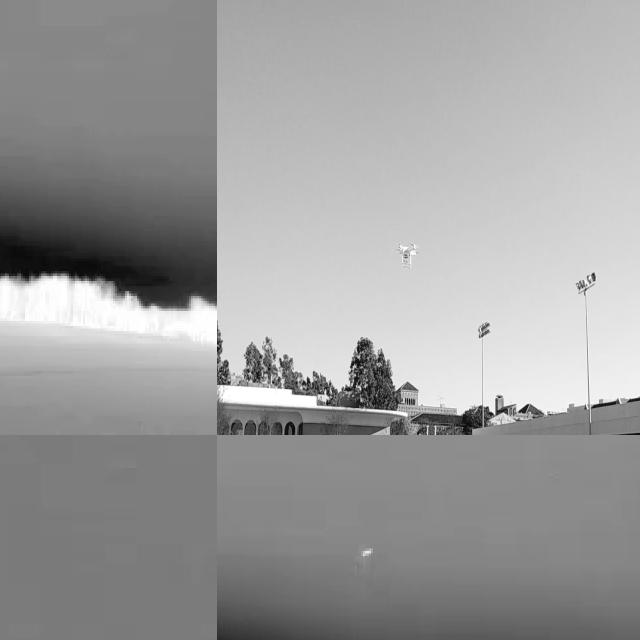1: (347, 536, 387, 581)
drone: (395, 238, 421, 270)
